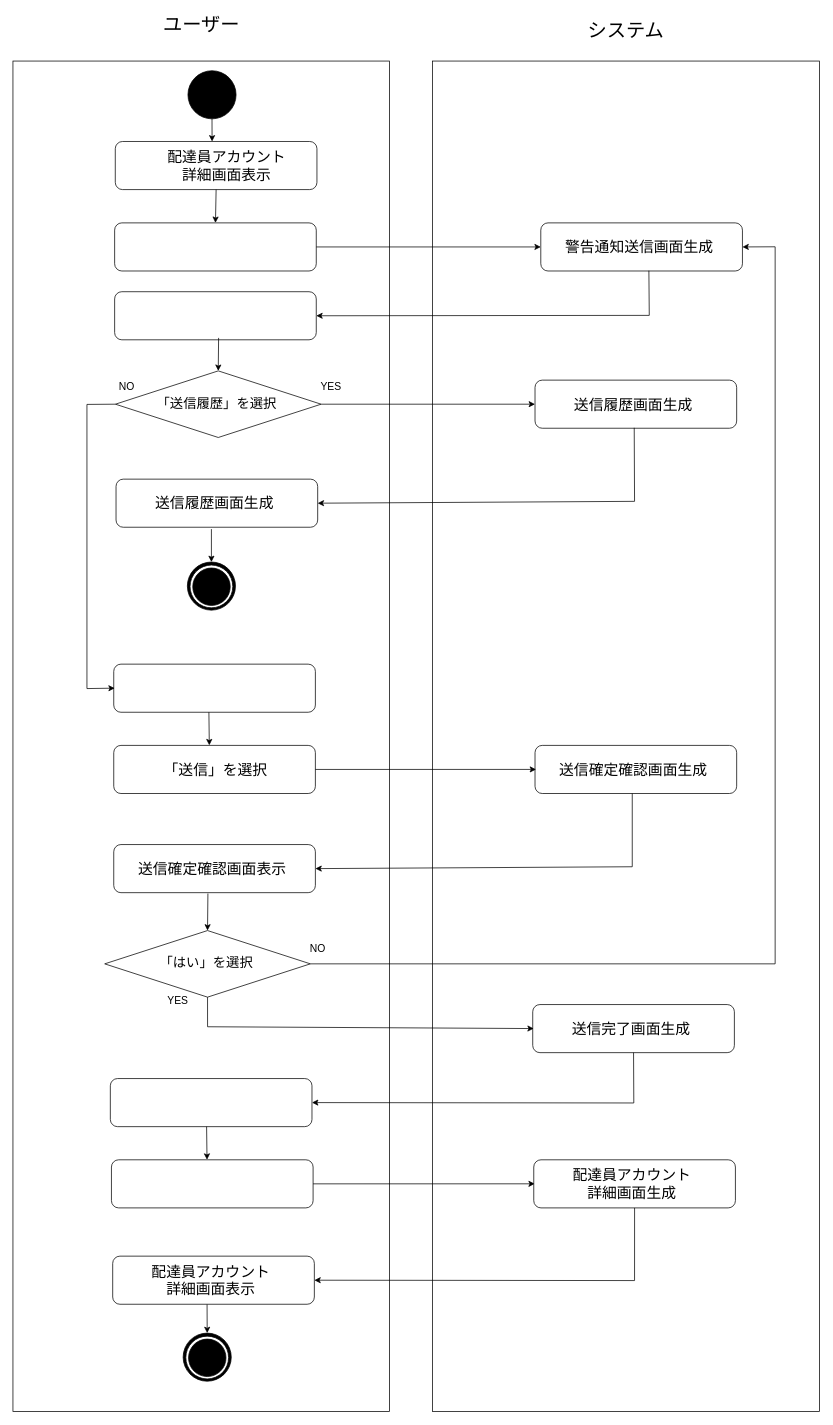
This 833x1425 diagram has some shape labels left out. The centre of each missing label's shape, as x and y in pixels:
「戻る」を選択: the point at 212,1183
「警告通知」を選択: the point at 215,246
警告通知送信画面表示: the point at 215,315
送信完了画面表示: the point at 211,1102
通知内容の入力: the point at 214,687
